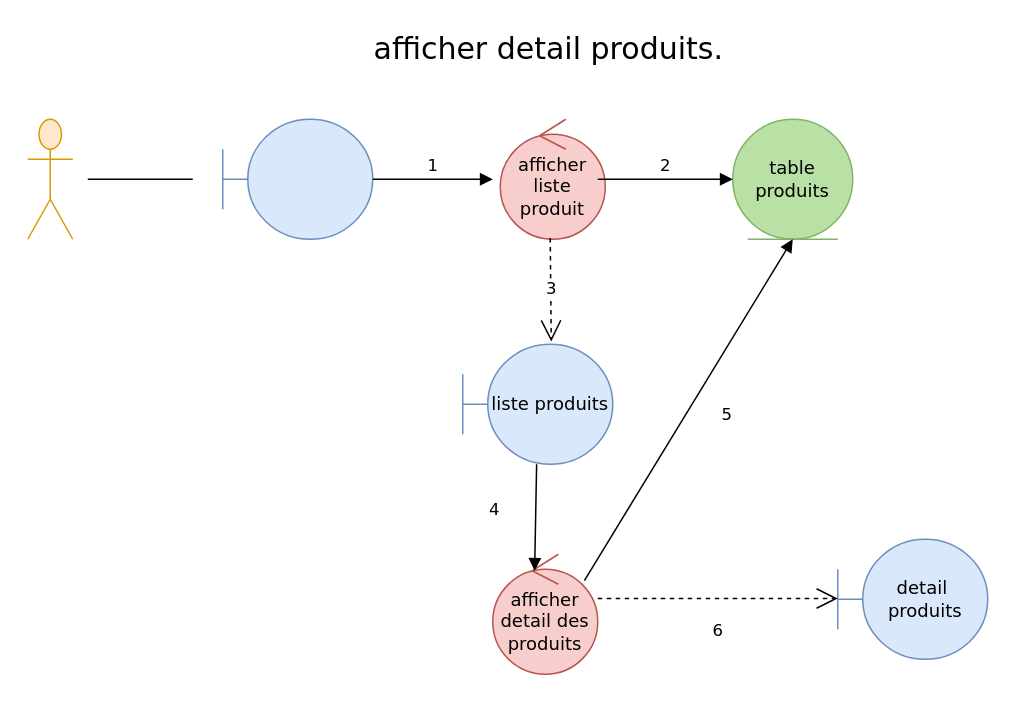
The diagram is 1014 pixels wide and 701 high, and some of its shapes have lost their labels. The centre of each missing label's shape, as x and y in pixels:
"accueil" belongs at pixel 297 178.
"client" belongs at pixel 49 178.
